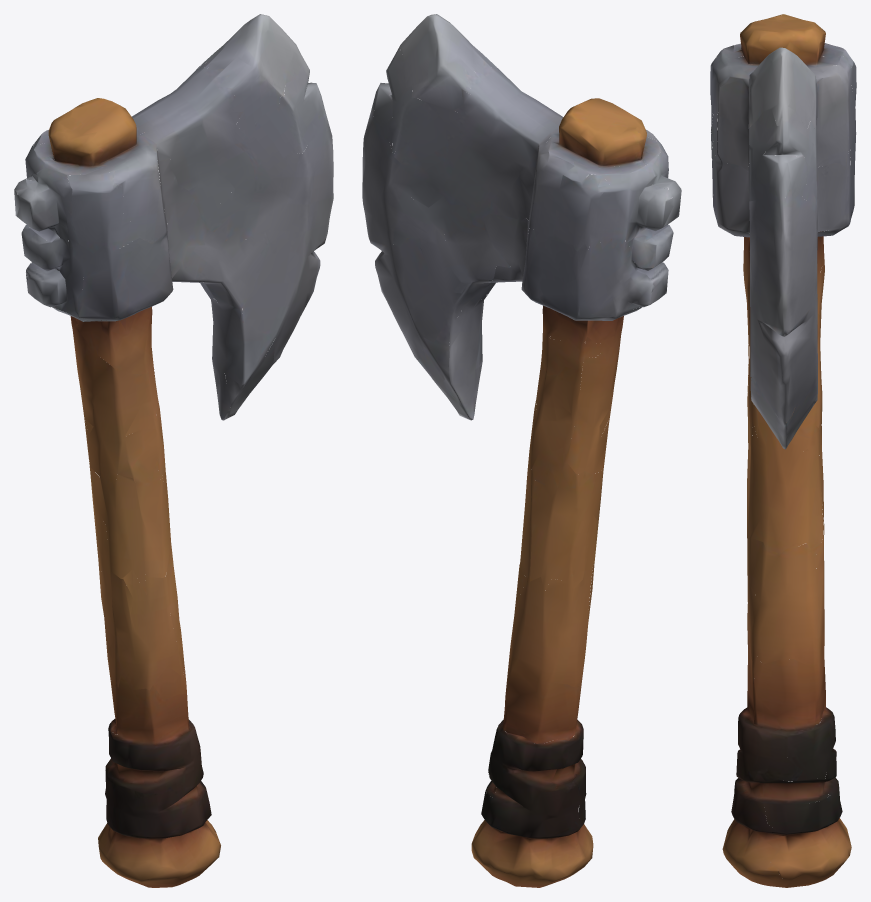
Rendered from Arm_battle_axe-Bge1QlJ1.glb.
3 renders of one model, left to right at view 1: azimuth 30°, elevation 25°; view 2: azimuth 150°, elevation 25°; view 3: azimuth 270°, elevation 25°, orthographic. The views are drawn at different scales.
Visible parts, largest first — view 1: Arm_battle_axe; view 2: Arm_battle_axe; view 3: Arm_battle_axe.
Part boxes in pixels (x1,y1,x2,y2): Arm_battle_axe: (14, 14, 333, 887); Arm_battle_axe: (362, 14, 681, 887); Arm_battle_axe: (710, 14, 856, 887).
Size of the model in its own units: 0.6046 by 1.55 by 0.2328.
1 material, 1 textured.
